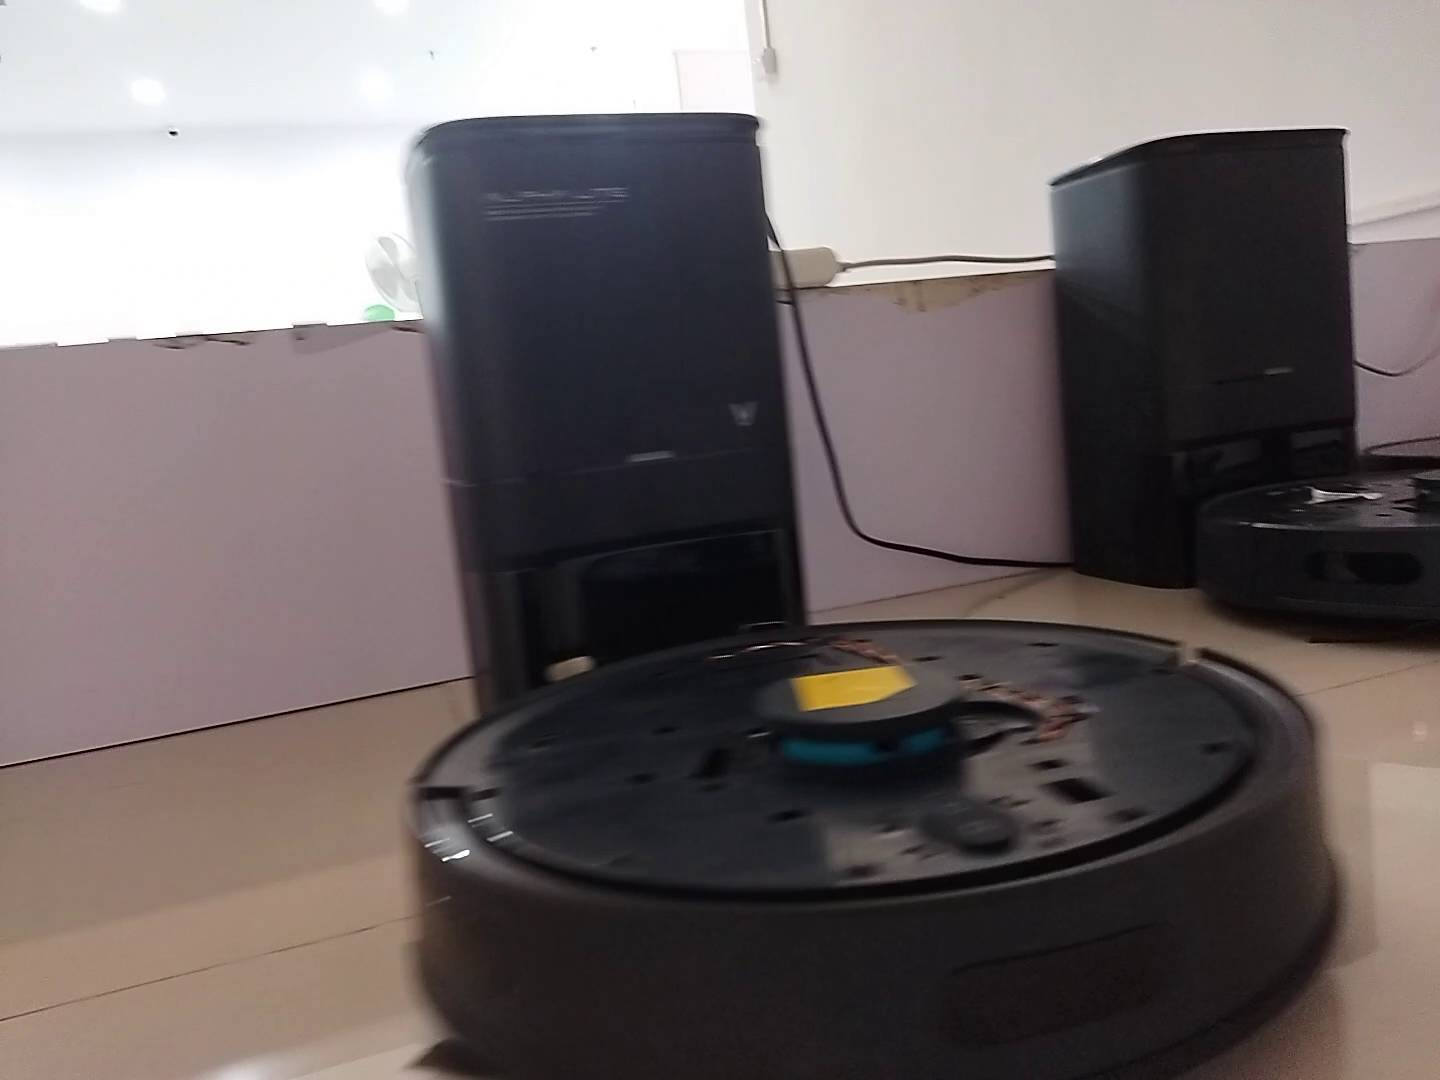dust collecting barrel: (403, 113, 812, 712), (1048, 127, 1358, 594)
